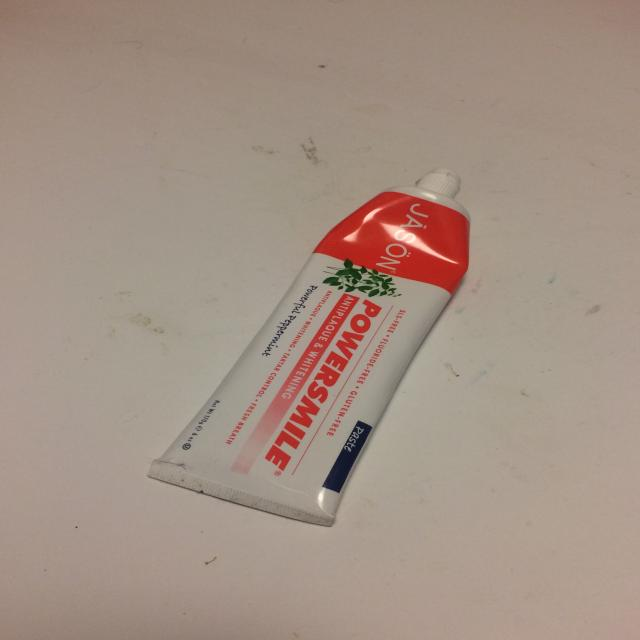trash: (146, 166, 472, 527)
